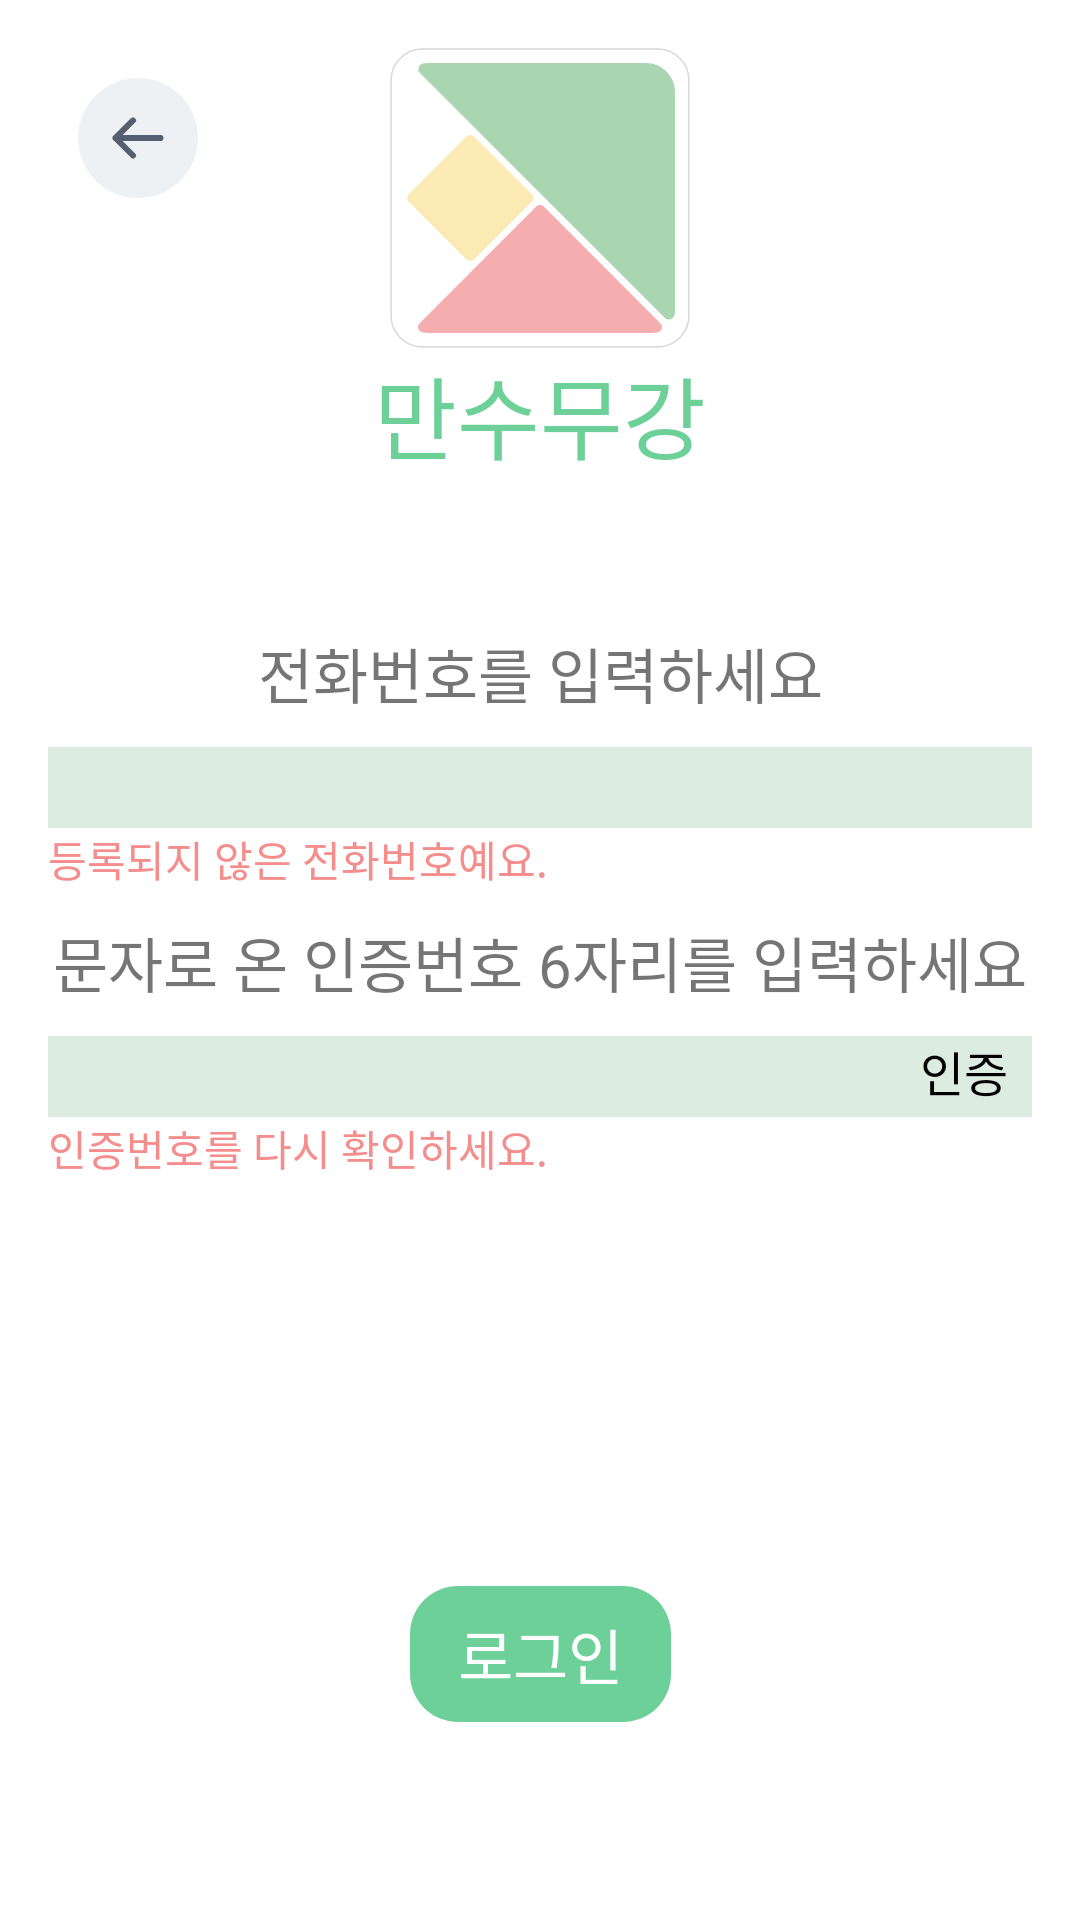

Icons on this 1080px x 1920px Android screen, each with the point to tap as point (x, y):
back: point (138, 138)
